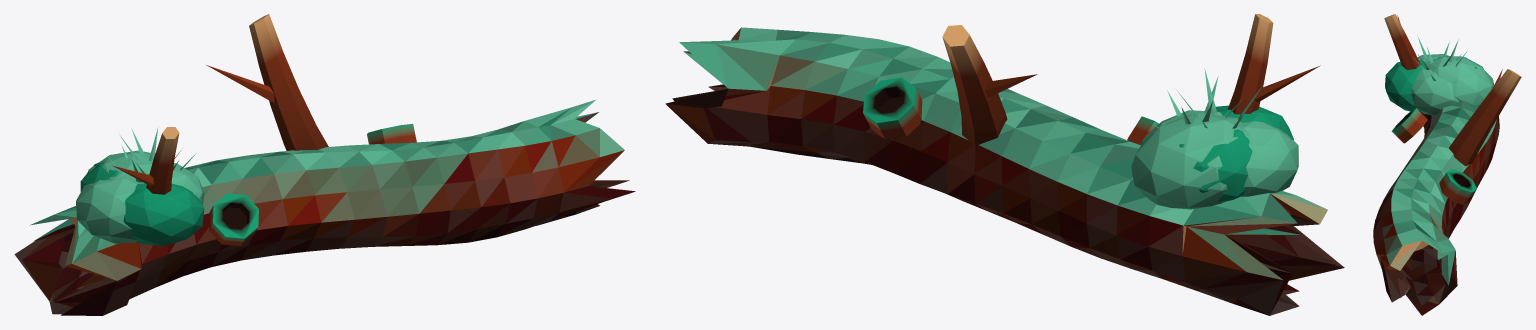
The model's file is pohon_tumbang_hollow_redwood_1800.glb.
3 views of the same model, side by side, from view 1: azimuth 30°, elevation 25°; view 2: azimuth 150°, elevation 25°; view 3: azimuth 270°, elevation 25° (orthographic). The views are drawn at different scales.
Parts seen in each view (by area): view 1: Batang_Pohon_Berlubang; view 2: Batang_Pohon_Berlubang; view 3: Batang_Pohon_Berlubang.
Part boxes in pixels (x1,y1,x2,y2): Batang_Pohon_Berlubang: (14,14,635,315); Batang_Pohon_Berlubang: (665,14,1344,315); Batang_Pohon_Berlubang: (1373,14,1521,315).
Size of the model in its own units: 5.56 by 2.02 by 1.8.
